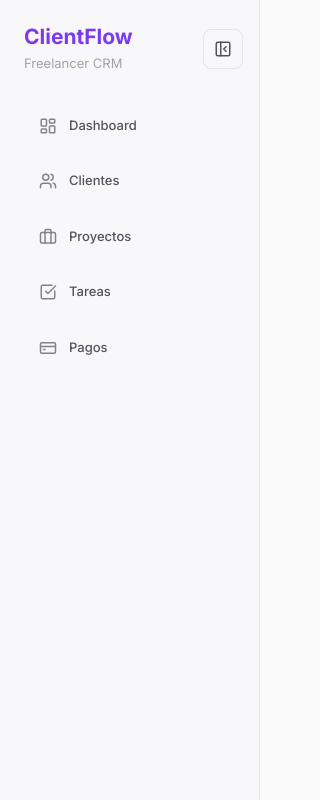
Test: Sidebar — desktop collapse › toggling the collapse button flips its label from 'Colapsar' to 'Expandir' and persists it
Click the button named "Colapsar sidebar": (223, 49) [203,29,243,69]
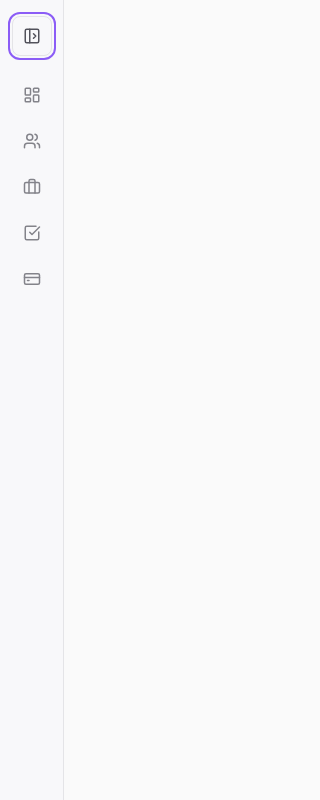
Expected: the button named "Expandir sidebar" is shown, [12,16,52,56]
